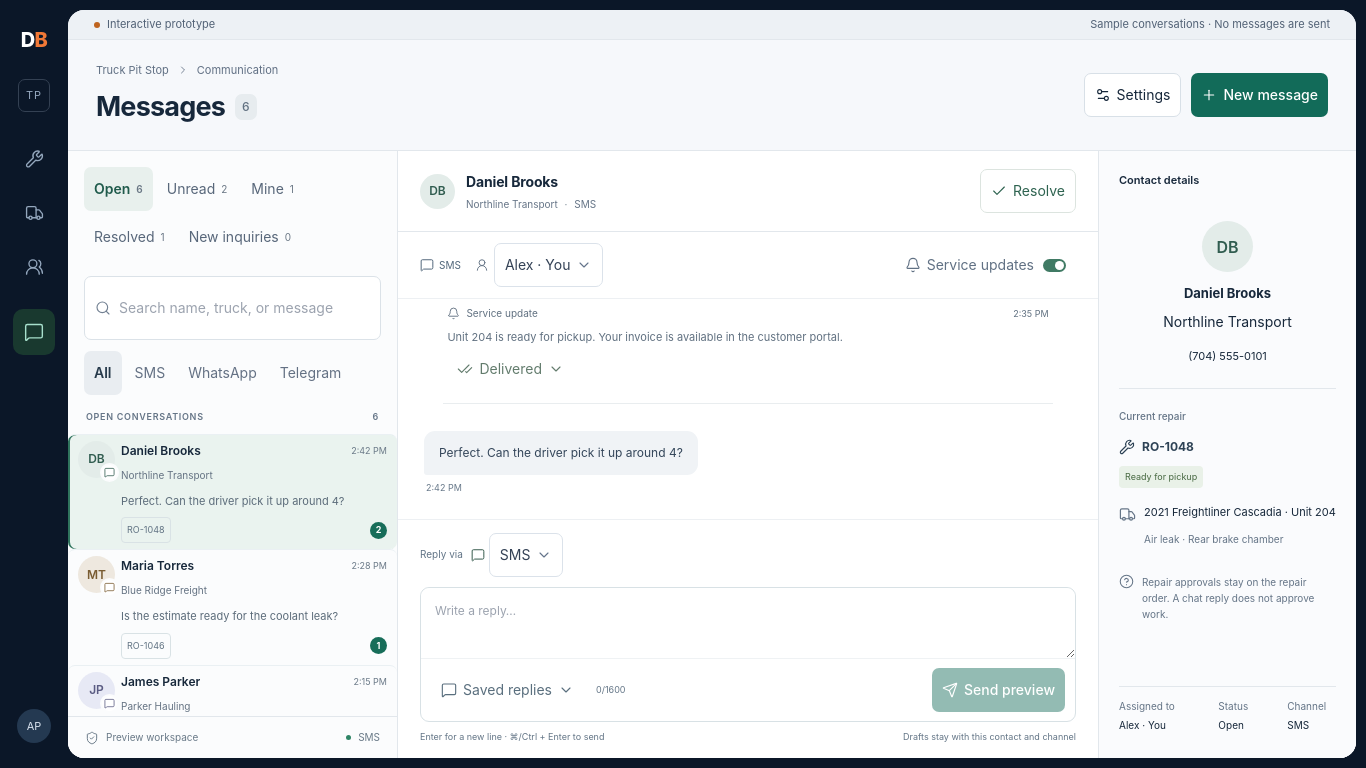
Test: shared inbox foundation › adds one preview message, clears only its draft, and does not pretend delivery
(page scrolled)
Type "A preview reply" into the text box named "Message draft" at (748, 622), box [421, 588, 1075, 658]
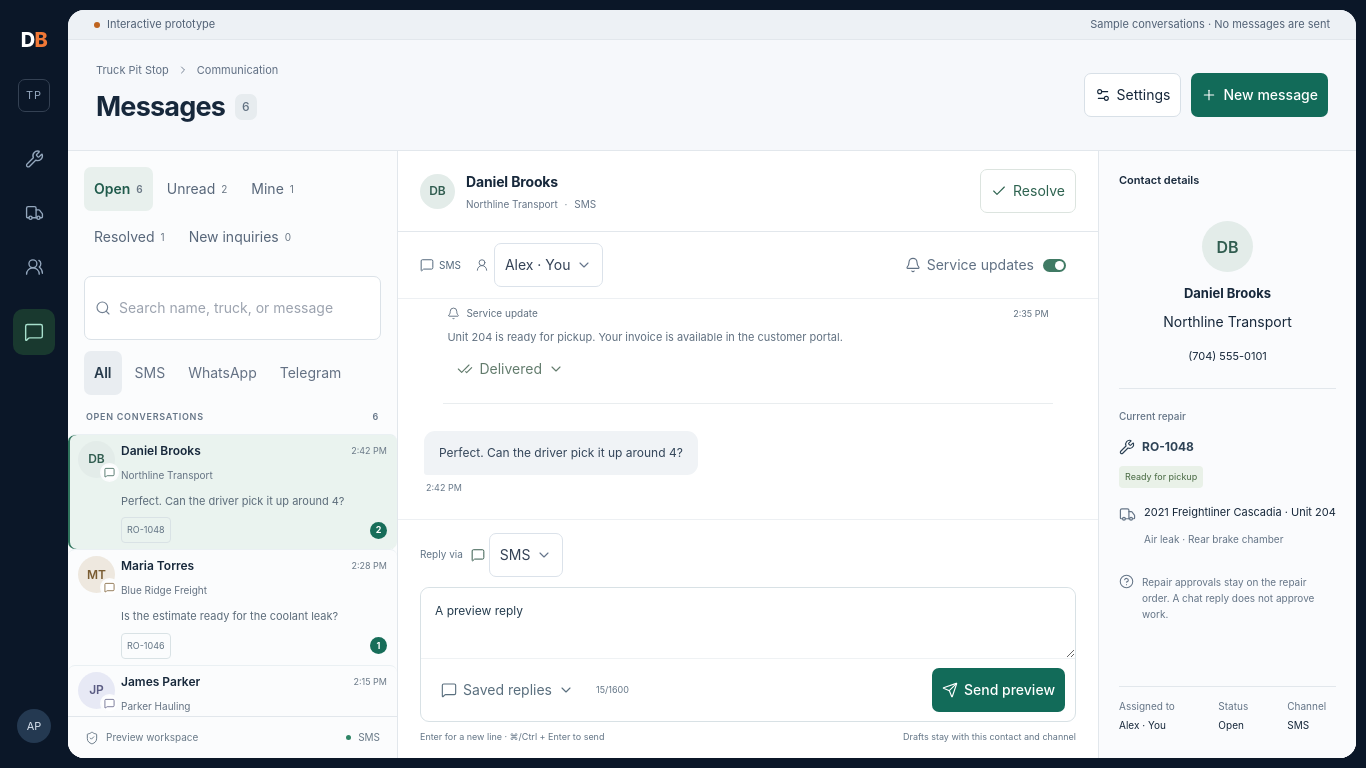
Click the button "Send preview" at (998, 690), box [932, 668, 1065, 712]
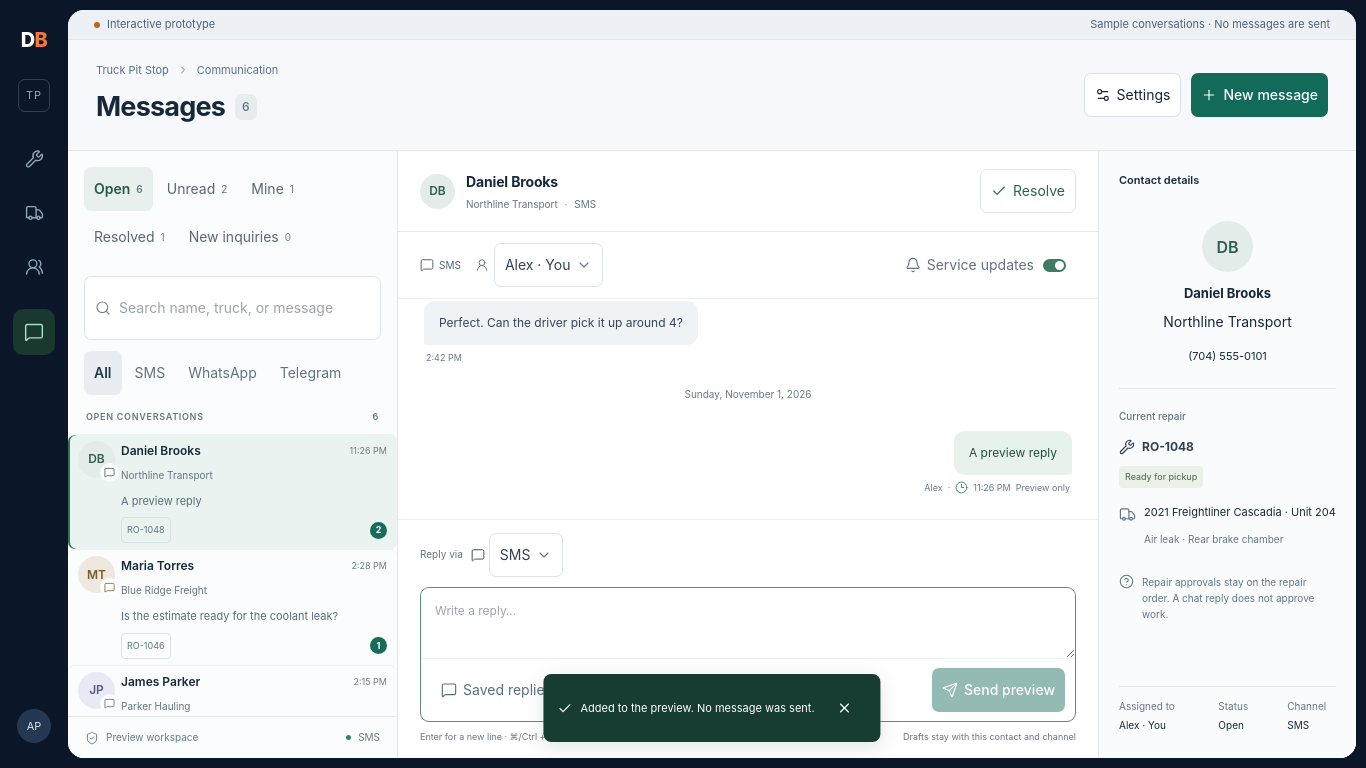
Check: the button "Send preview" is disabled, box [932, 668, 1065, 712]
Check: the text box named "Message draft" is empty, box [421, 588, 1075, 658]
Check: the text "A preview reply" is shown once, box [954, 431, 1072, 475]
